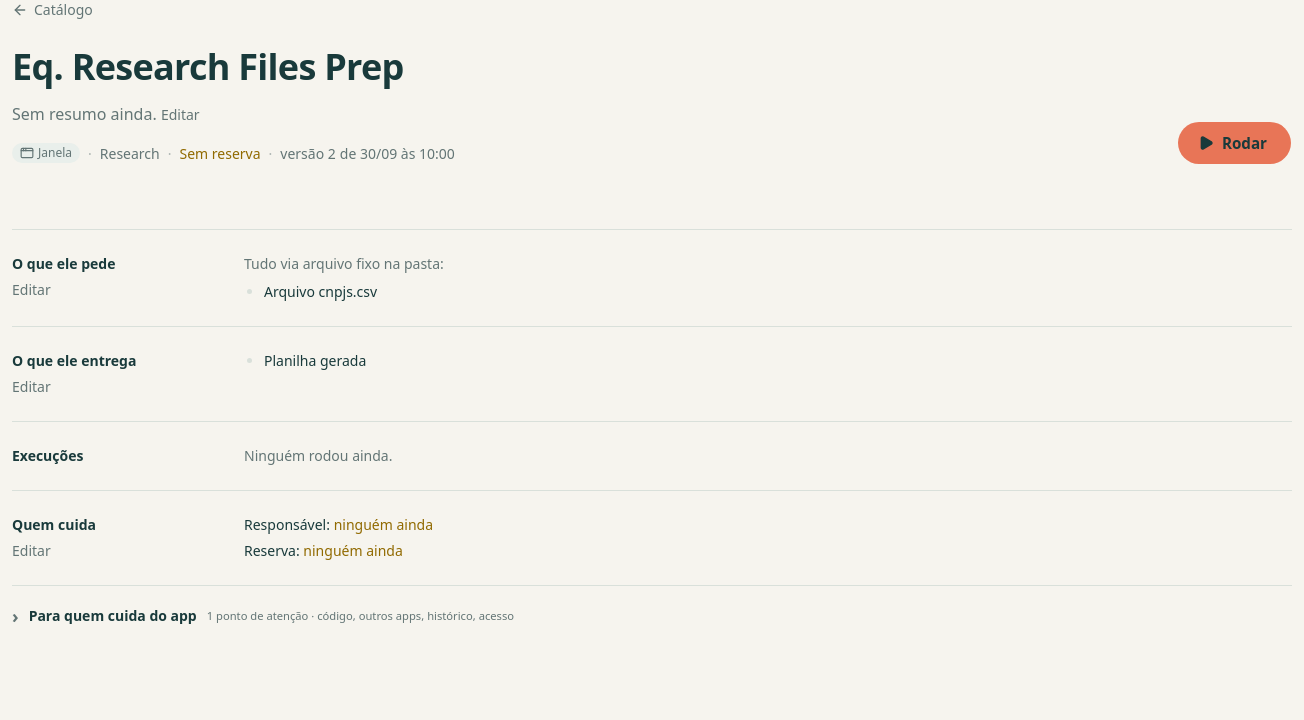
it: links other apps and marks the unknown ones
This screenshot has width=1304, height=720.
What coordinates should you click on to do the following:
click the heading "Para quem cuida do app"
I would click on:
 (263, 616)
Its box is [12,604,514,628].
(page scrolled)
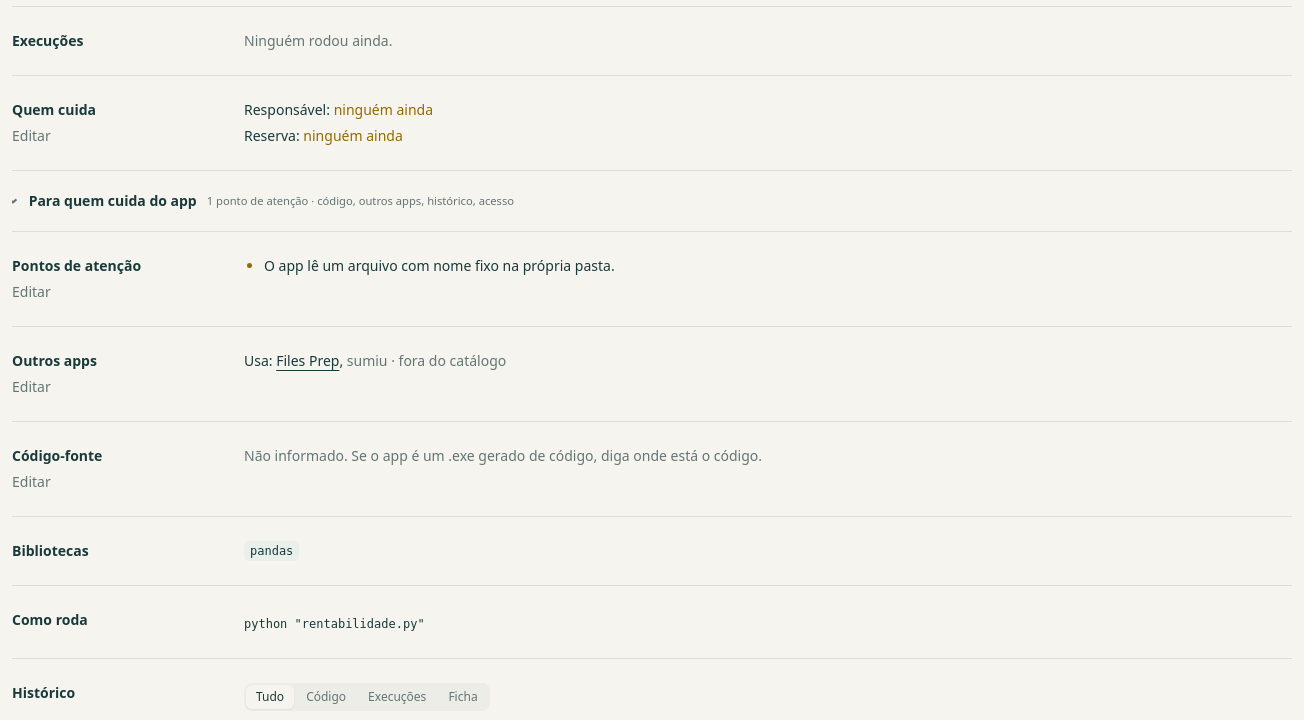
expect the text "sumiu · fora do catálogo" is shown: met, box [347,351,506,370]
